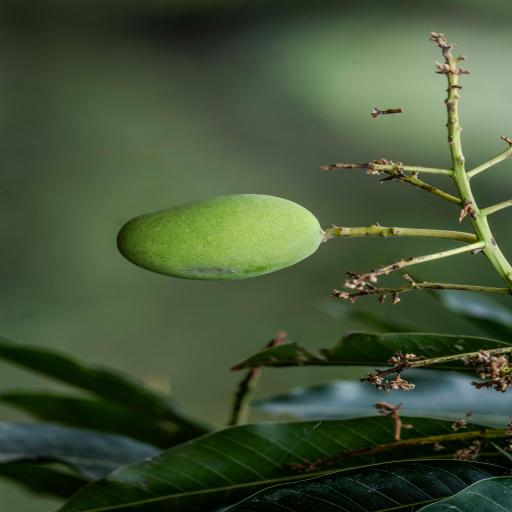Mango-Detection: (53, 153, 409, 334)
